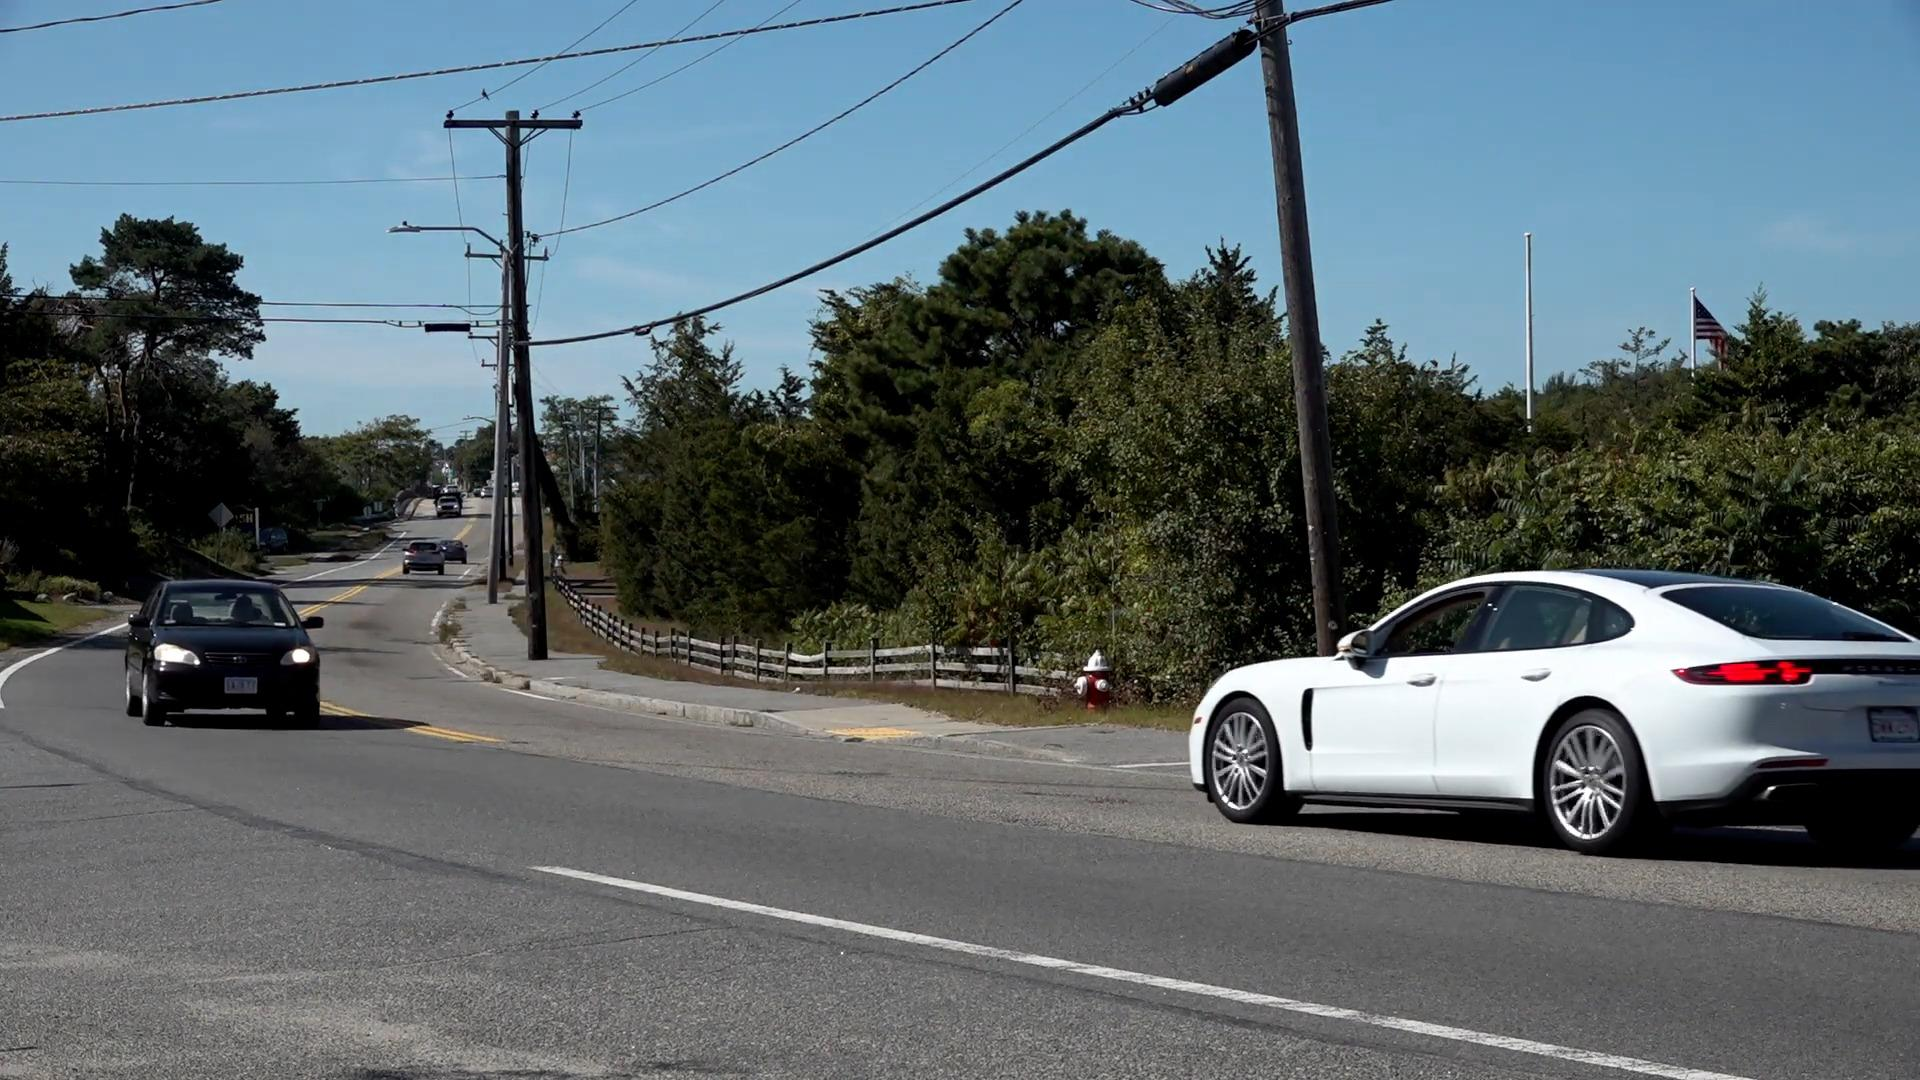sedans: (1185, 570, 1920, 861), (127, 575, 327, 732)
